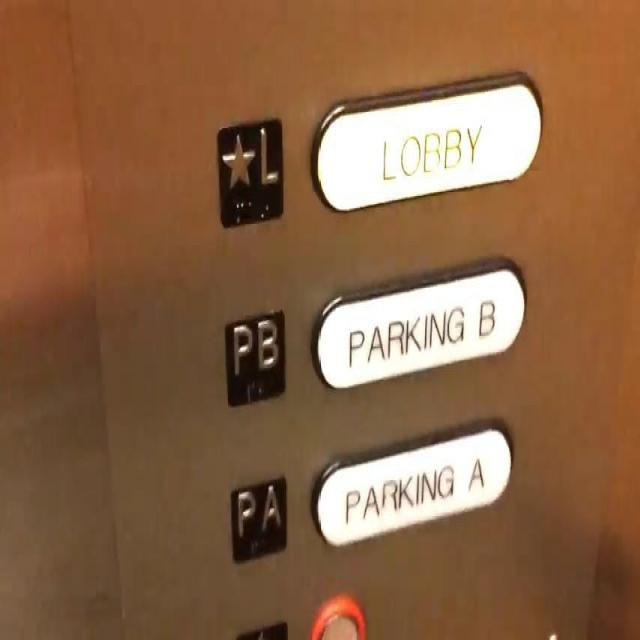PA: (228, 472, 288, 564)
PB: (220, 306, 288, 410)
sL: (214, 112, 287, 228)
